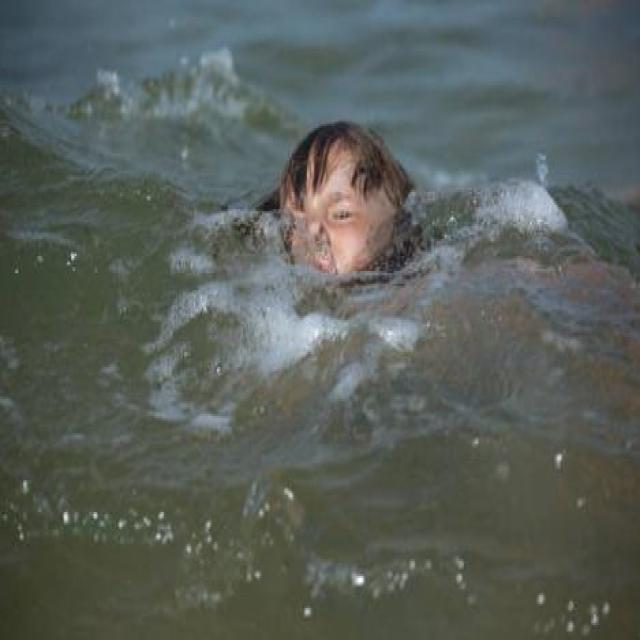Out of Water: (243, 116, 476, 294)
